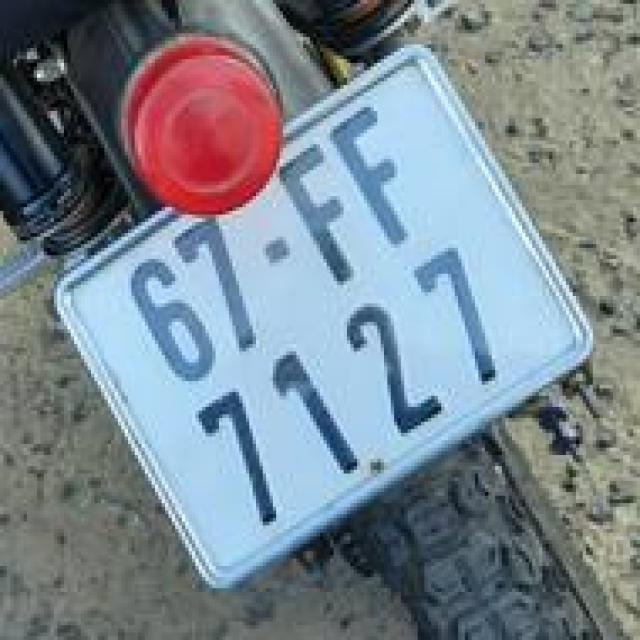1: (257, 331, 376, 490)
2: (325, 278, 454, 456)
6: (114, 245, 233, 400)
7: (164, 194, 284, 368), (180, 379, 299, 553), (402, 225, 518, 400)
F: (315, 92, 453, 273), (259, 129, 392, 299)
